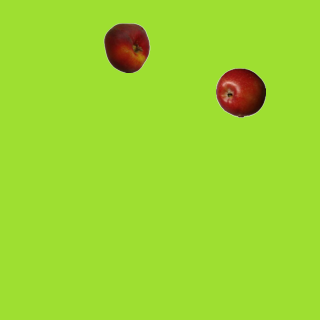Apple Braeburn: (215, 67, 265, 117)
Nectarine Flat: (101, 22, 151, 72)
